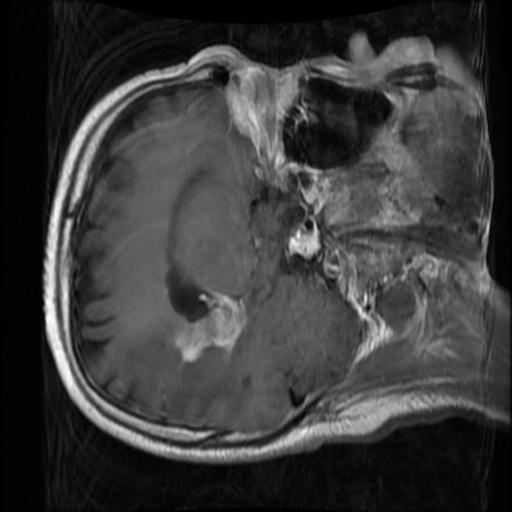glioma: (171, 291, 248, 362)
